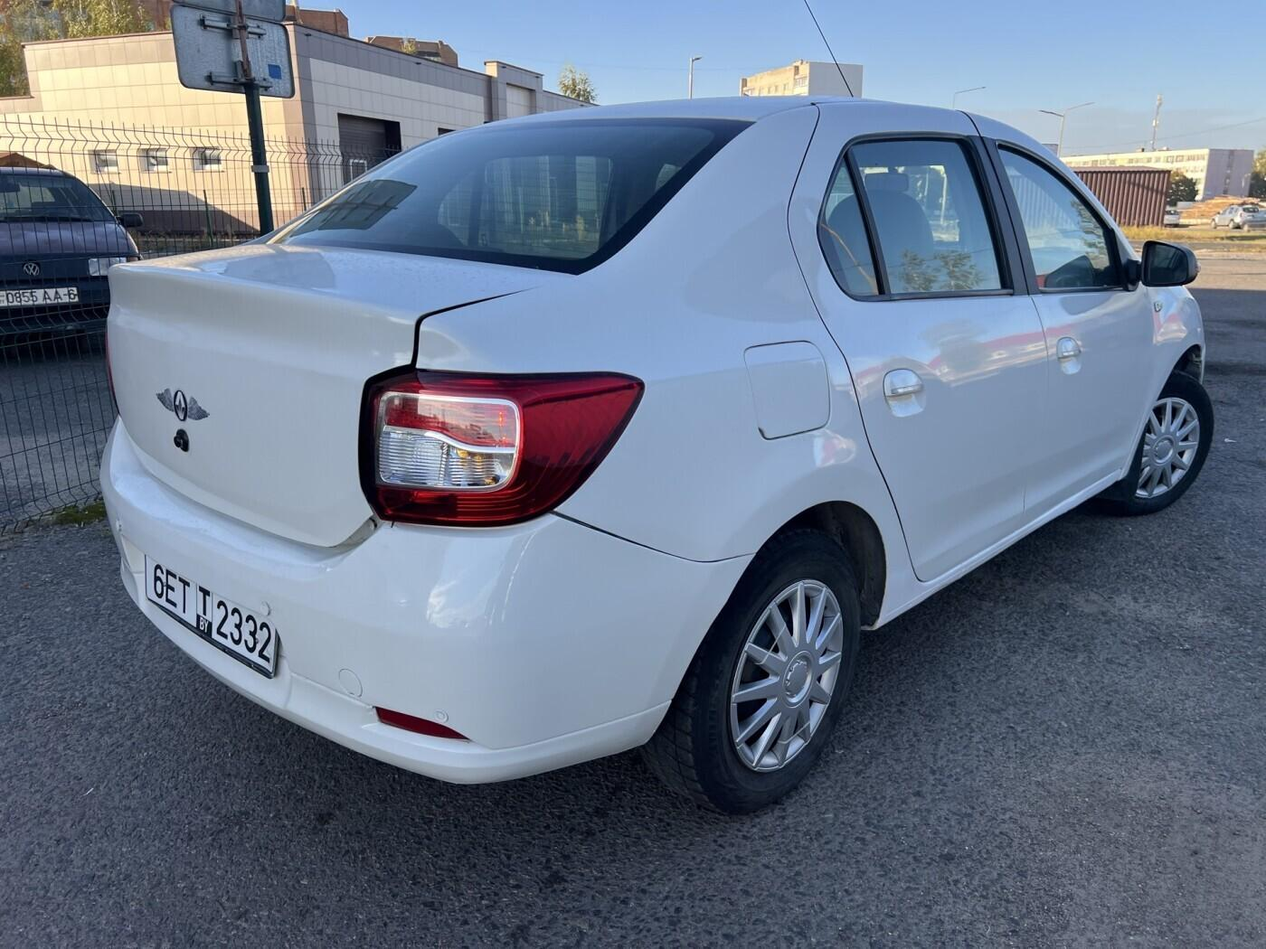Logan_2013-2018: (87, 90, 1217, 825)
